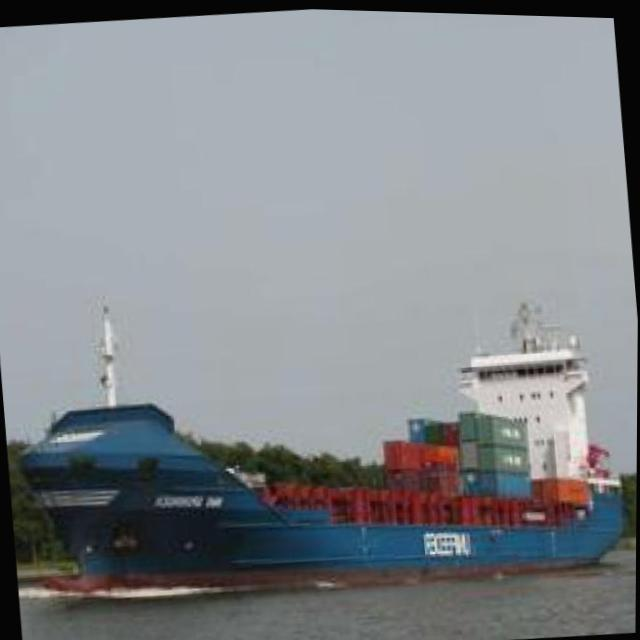ship2: (20, 298, 624, 592)
